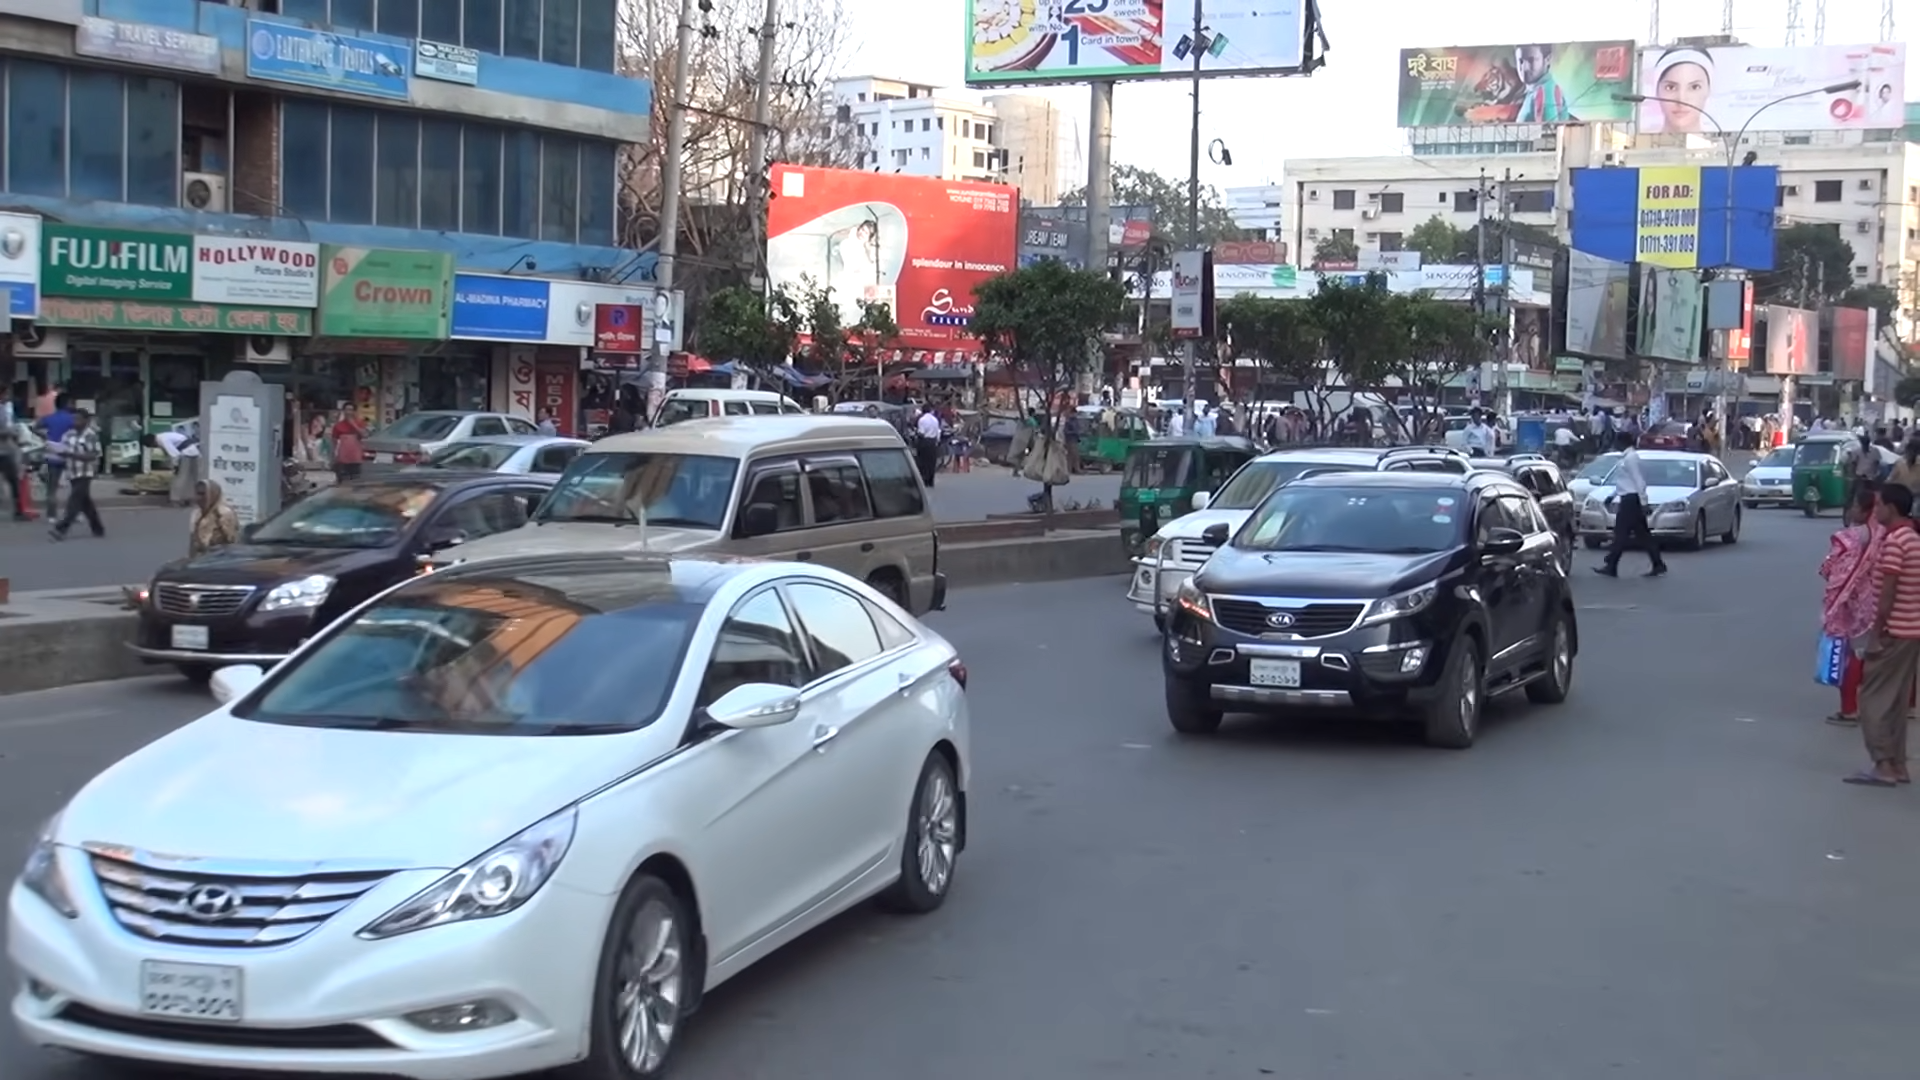Car: (24, 550, 992, 1060), (1145, 469, 1582, 749)
